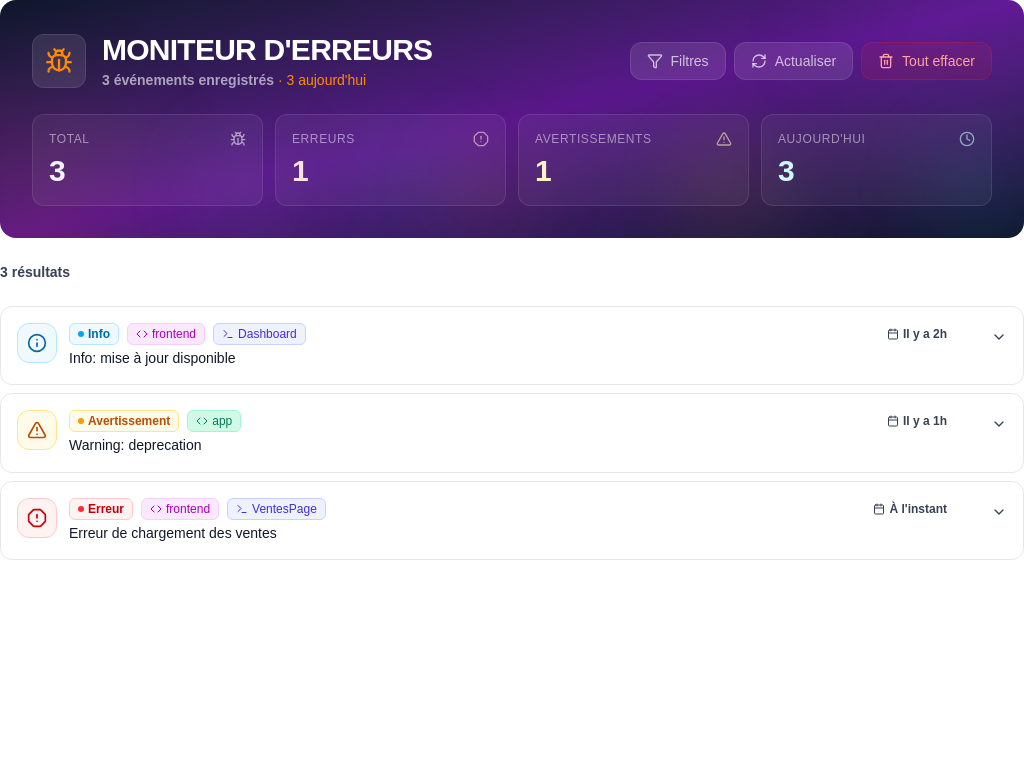
Test: ErrorsPage › affiche la modale de confirmation pour tout effacer
Expected: the heading "Moniteur d'Erreurs" is shown, [102,32,432,68]
Click the button "Tout effacer" at (927, 61), box [861,42,992,80]
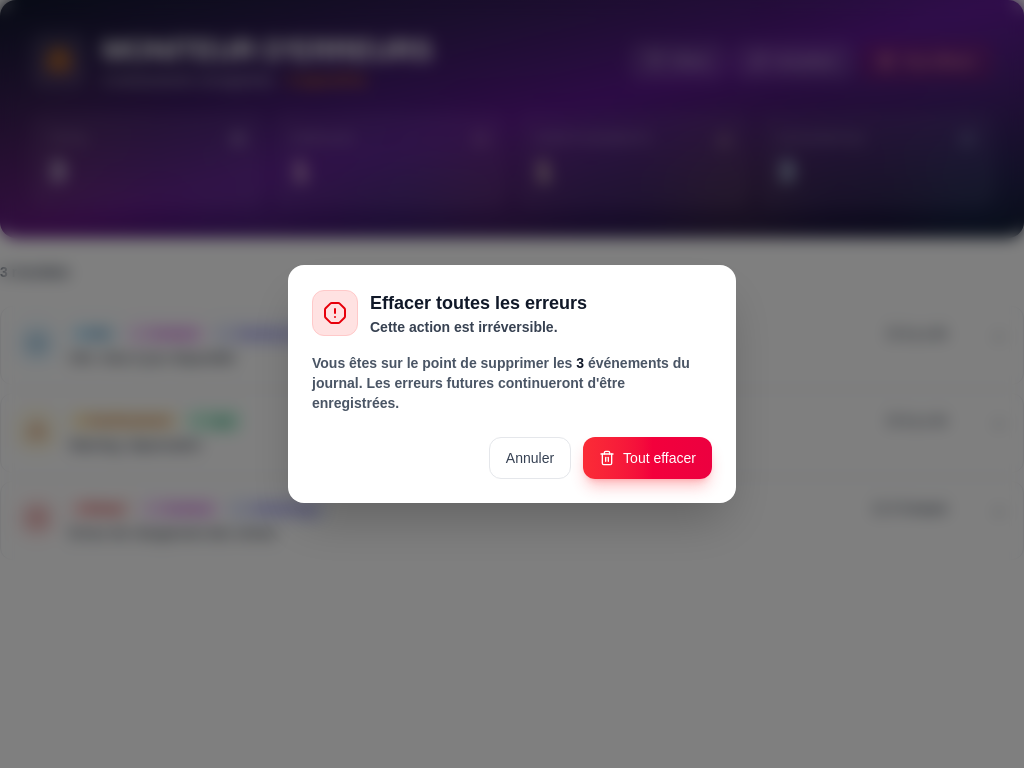
Result: the heading "Effacer toutes les erreurs" is shown at [370,289,587,317]
Click the button "Annuler" at (530, 458), box [489,437,571,479]
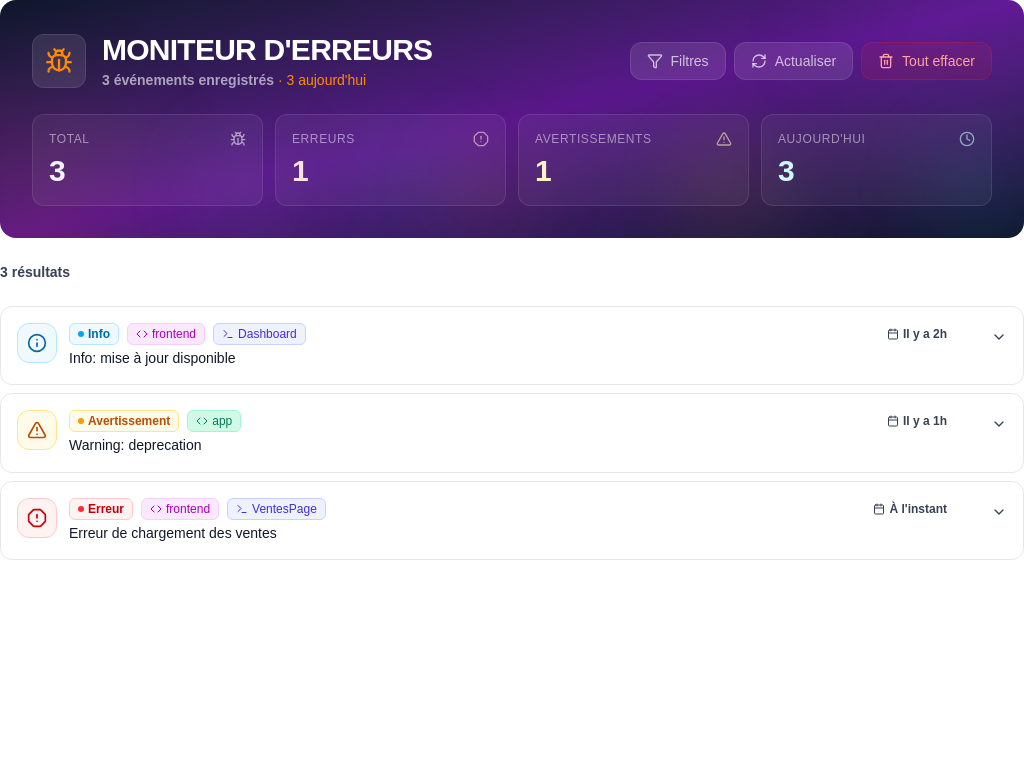
Result: the heading "Effacer toutes les erreurs" is gone
